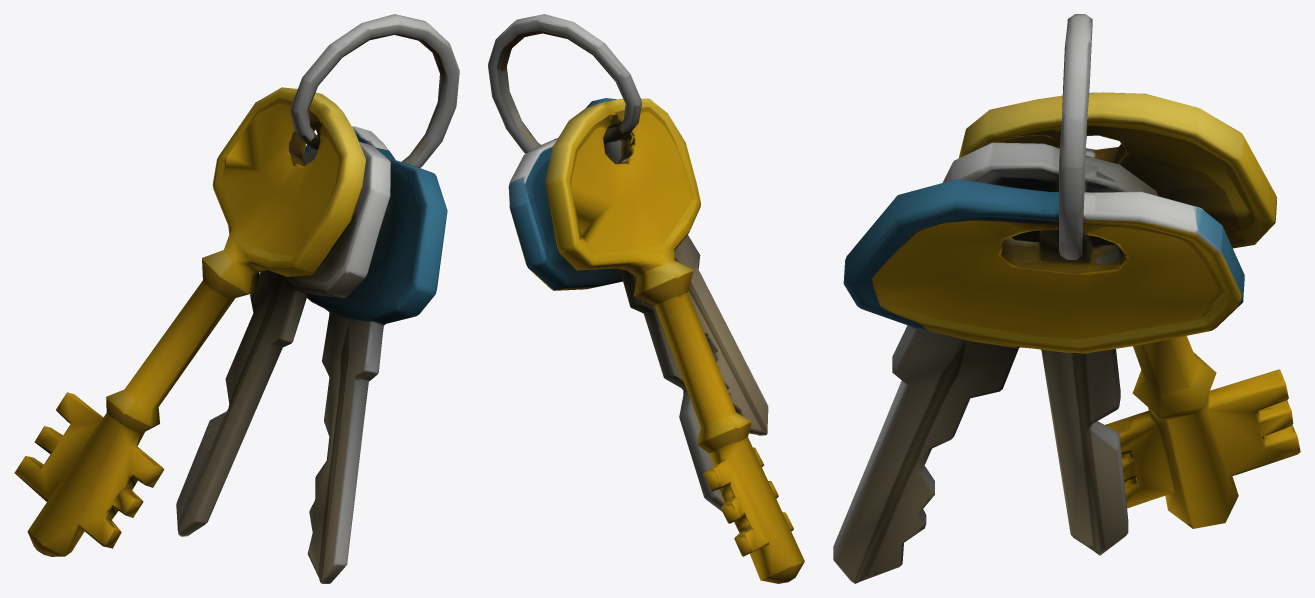
Rendered from Key.fbx.
3 views of the same model, side by side, from view 1: azimuth 30°, elevation 25°; view 2: azimuth 150°, elevation 25°; view 3: azimuth 270°, elevation 25° (orthographic). The views are drawn at different scales.
Parts seen in each view (by area): view 1: mesh_rep_0_ori_repair_quad; view 2: mesh_rep_0_ori_repair_quad; view 3: mesh_rep_0_ori_repair_quad.
Part boxes in pixels (x1,y1,x2,y2): mesh_rep_0_ori_repair_quad: [14, 14, 459, 583]; mesh_rep_0_ori_repair_quad: [488, 14, 804, 583]; mesh_rep_0_ori_repair_quad: [833, 14, 1300, 583].
Bounding box in the file's own units: 73.73 × 92.97 × 57.56.
Materials: 1 (1 with a texture image).
